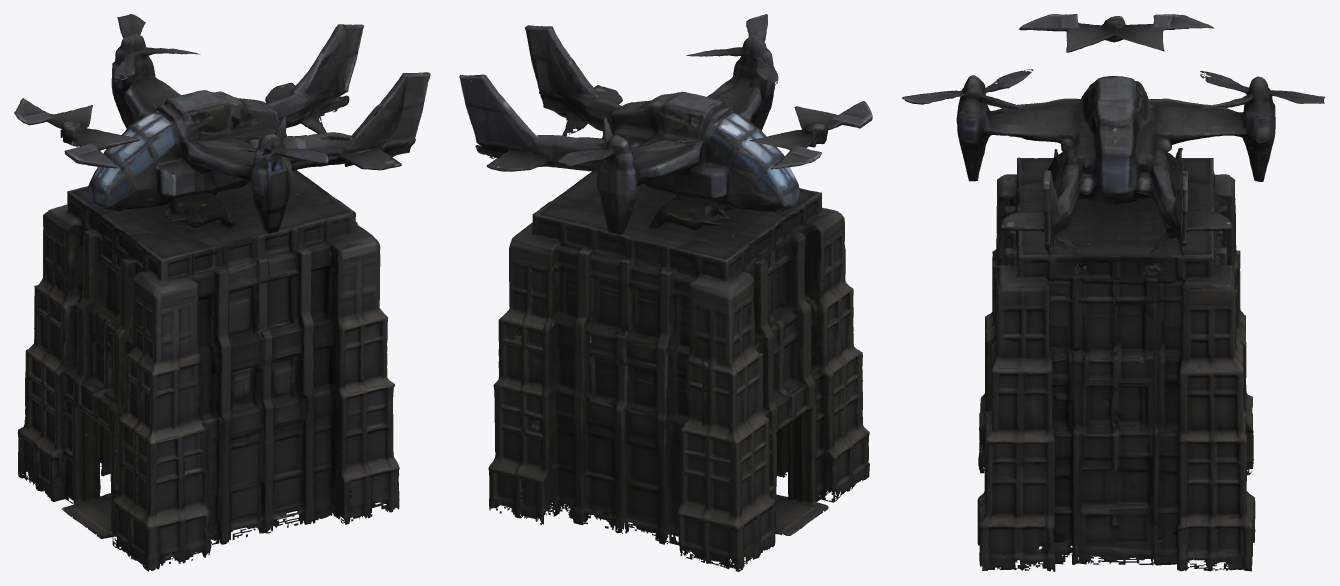
The model's file is fdg_building.glb.
3 renders of one model, left to right at view 1: azimuth 30°, elevation 25°; view 2: azimuth 150°, elevation 25°; view 3: azimuth 270°, elevation 25°, orthographic. The views are drawn at different scales.
Parts seen in each view (by area): view 1: Mesh_0; view 2: Mesh_0; view 3: Mesh_0.
Part boxes in pixels (left/top/right/bottom): Mesh_0: left=14, top=14, right=430, bottom=571; Mesh_0: left=459, top=14, right=872, bottom=571; Mesh_0: left=902, top=14, right=1325, bottom=571.
Size of the model in its own units: 5.37 by 6 by 5.41.
1 material, 1 textured.
